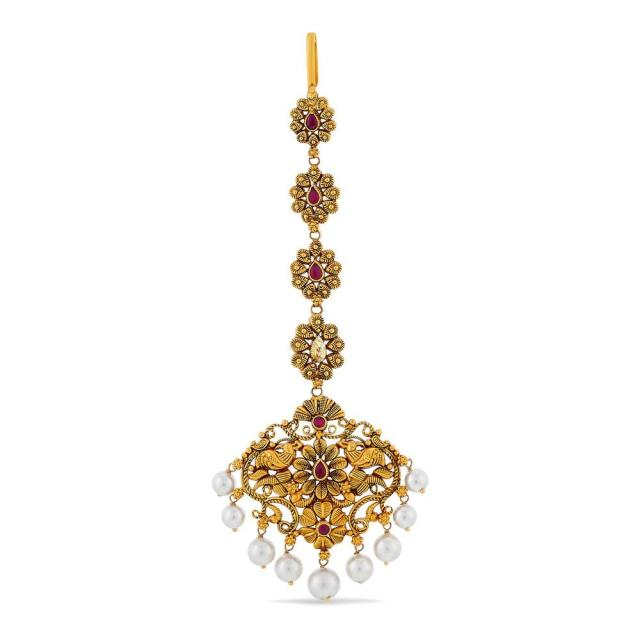missing gem: (311, 335, 326, 363)
